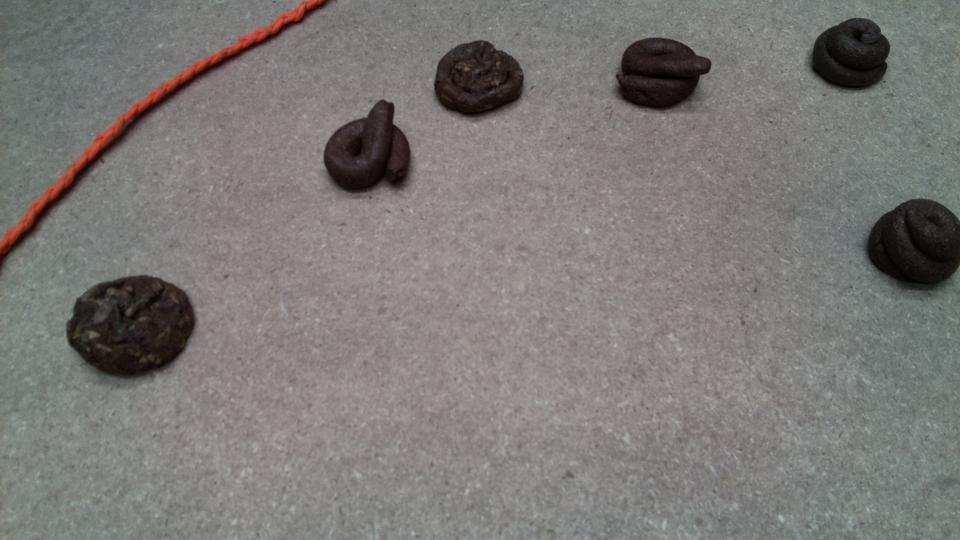poop: (64, 271, 201, 382), (319, 97, 417, 196), (862, 195, 960, 291), (430, 38, 528, 119), (615, 36, 714, 114), (808, 14, 893, 94)
rope: (1, 1, 305, 260)
